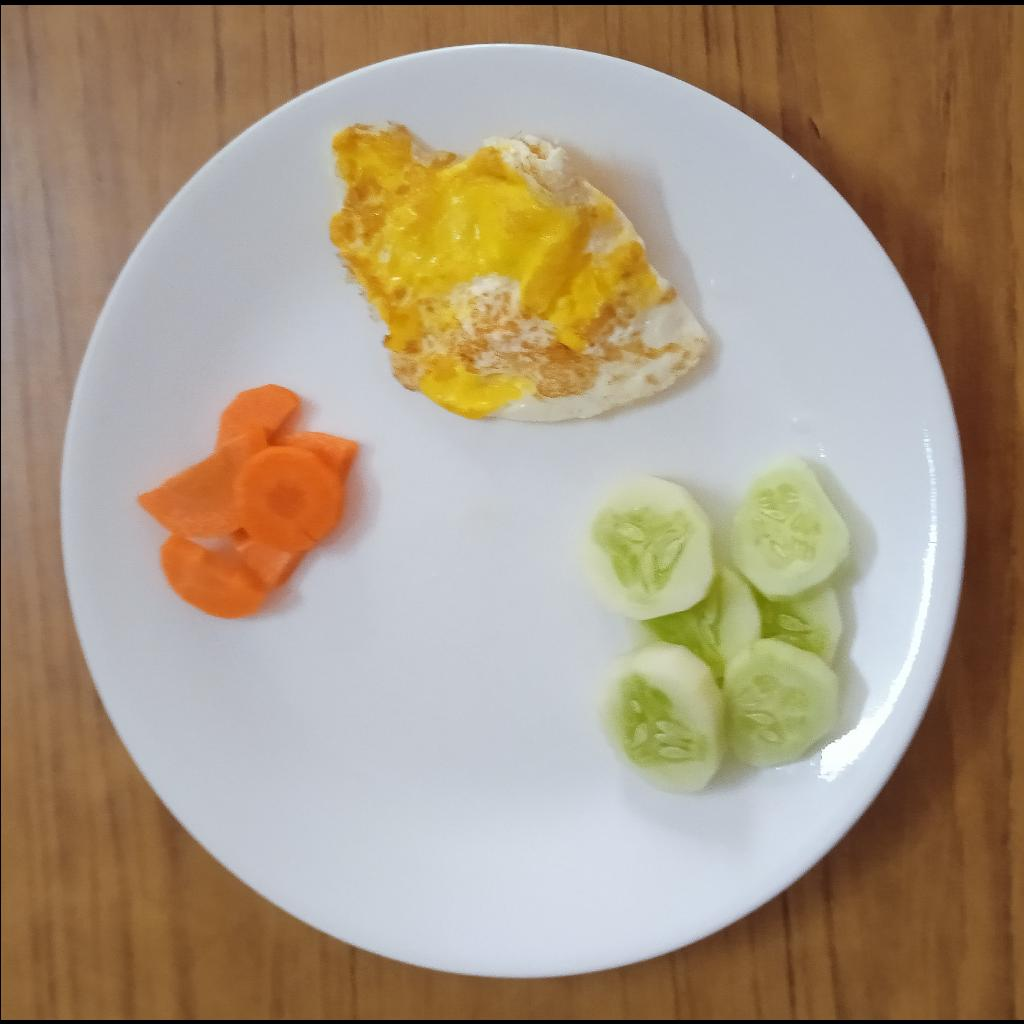carrot: (128, 378, 359, 620)
cucumber: (566, 462, 860, 795)
egg-poached: (329, 116, 710, 423)
